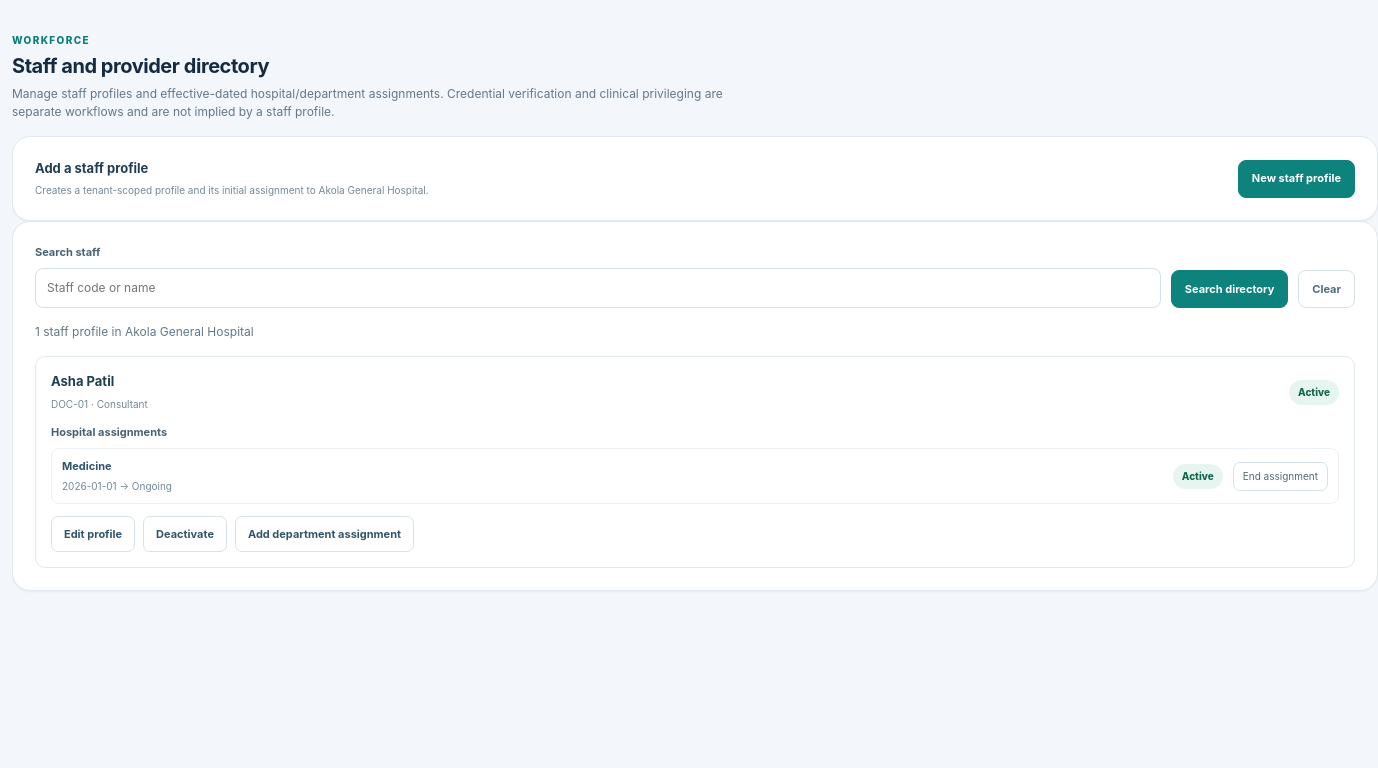
Test: staff management workspace › adds a department assignment with an effective date
Step 1. Click the button "Add department assignment" → (324, 534), box x1=235 y1=516 x2=414 y2=552
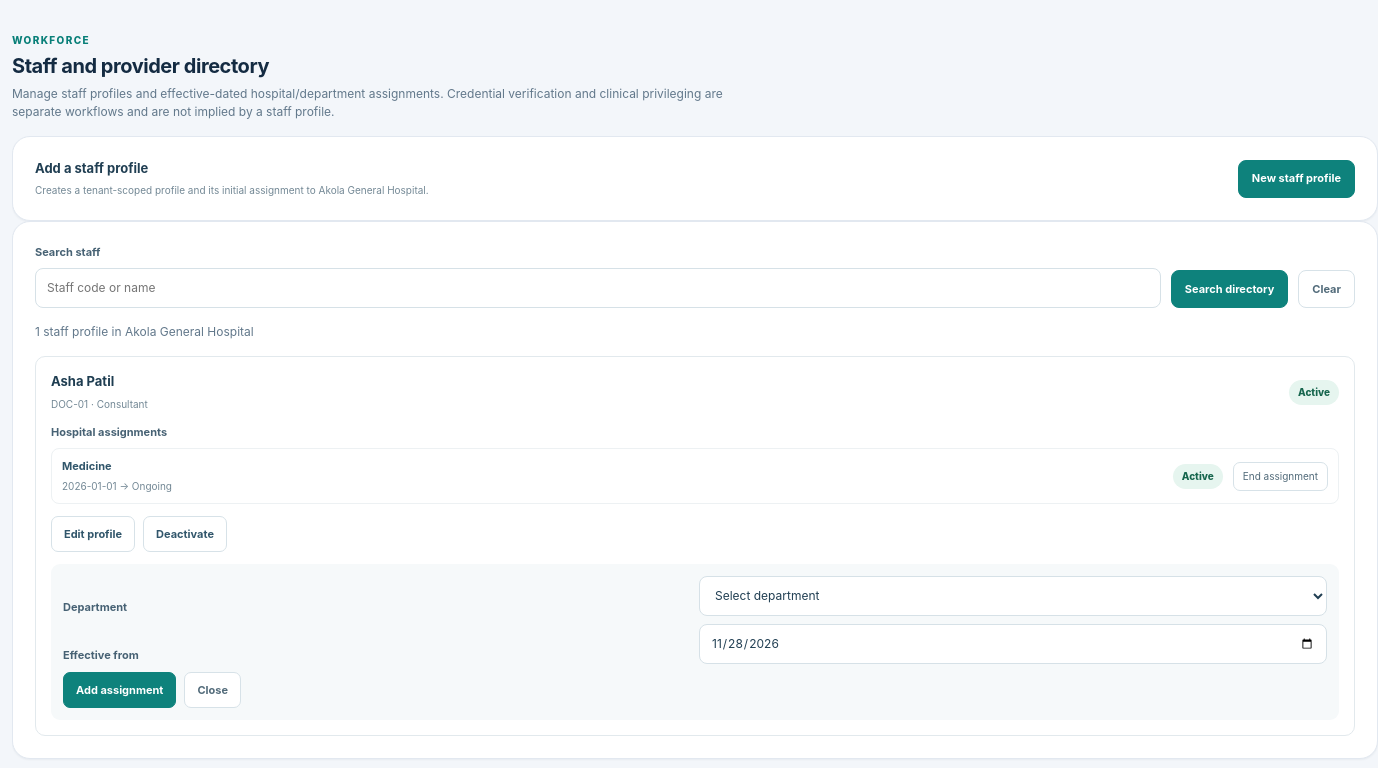
Step 2. Select "Medicine" in the dropdown labelled "Department" → (1013, 596), box x1=699 y1=576 x2=1327 y2=616
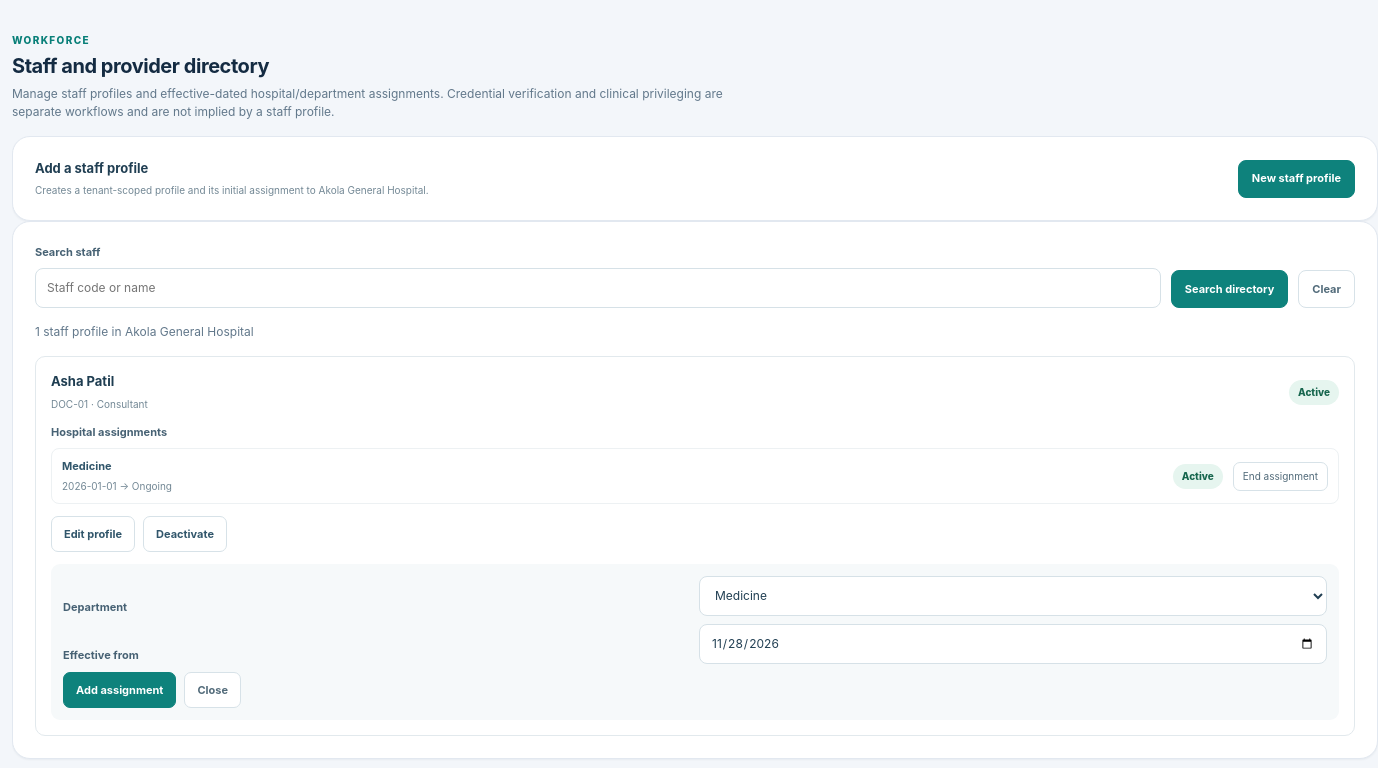
Step 3. Type "2026-04-01" into the date field labelled "Effective from" → (1013, 644), box x1=699 y1=624 x2=1327 y2=664
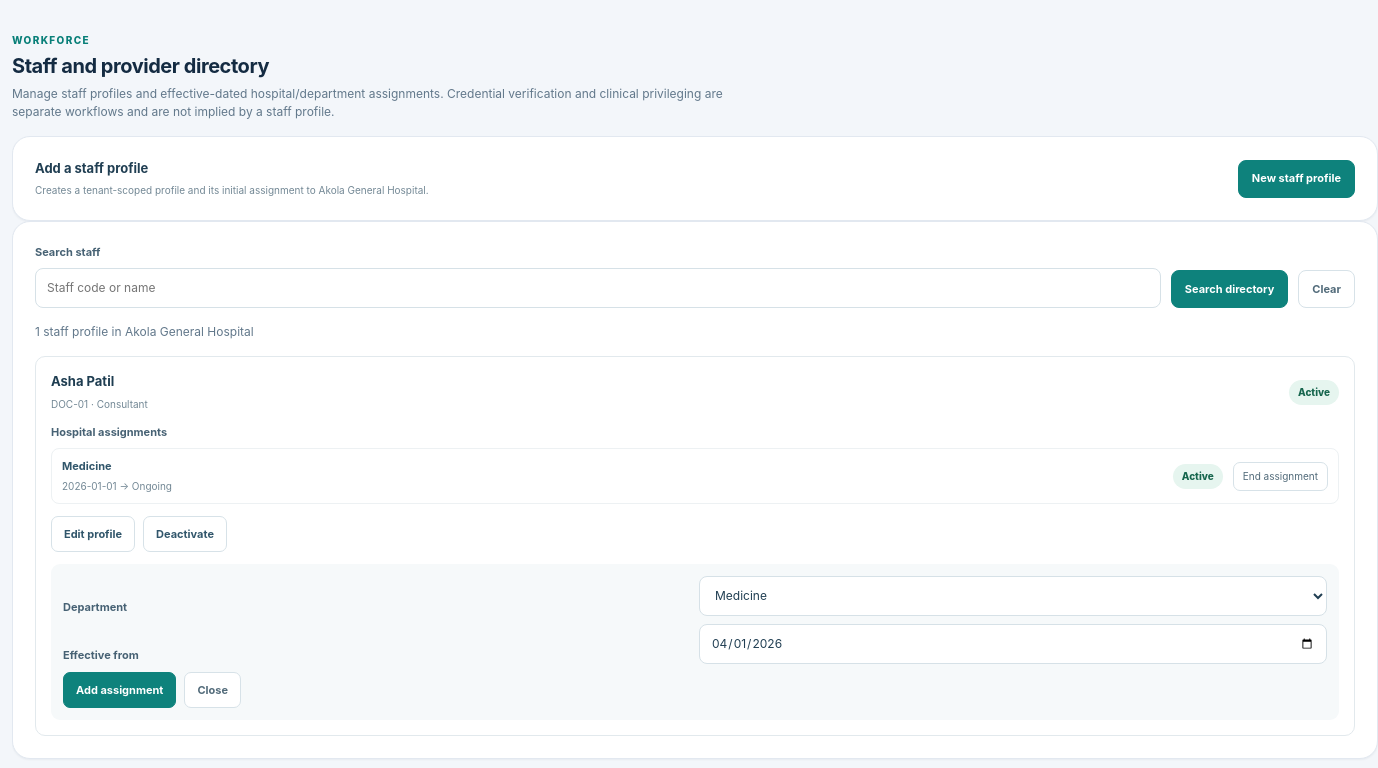
Step 4. Click the button "Add assignment" → (120, 690), box x1=63 y1=672 x2=176 y2=708
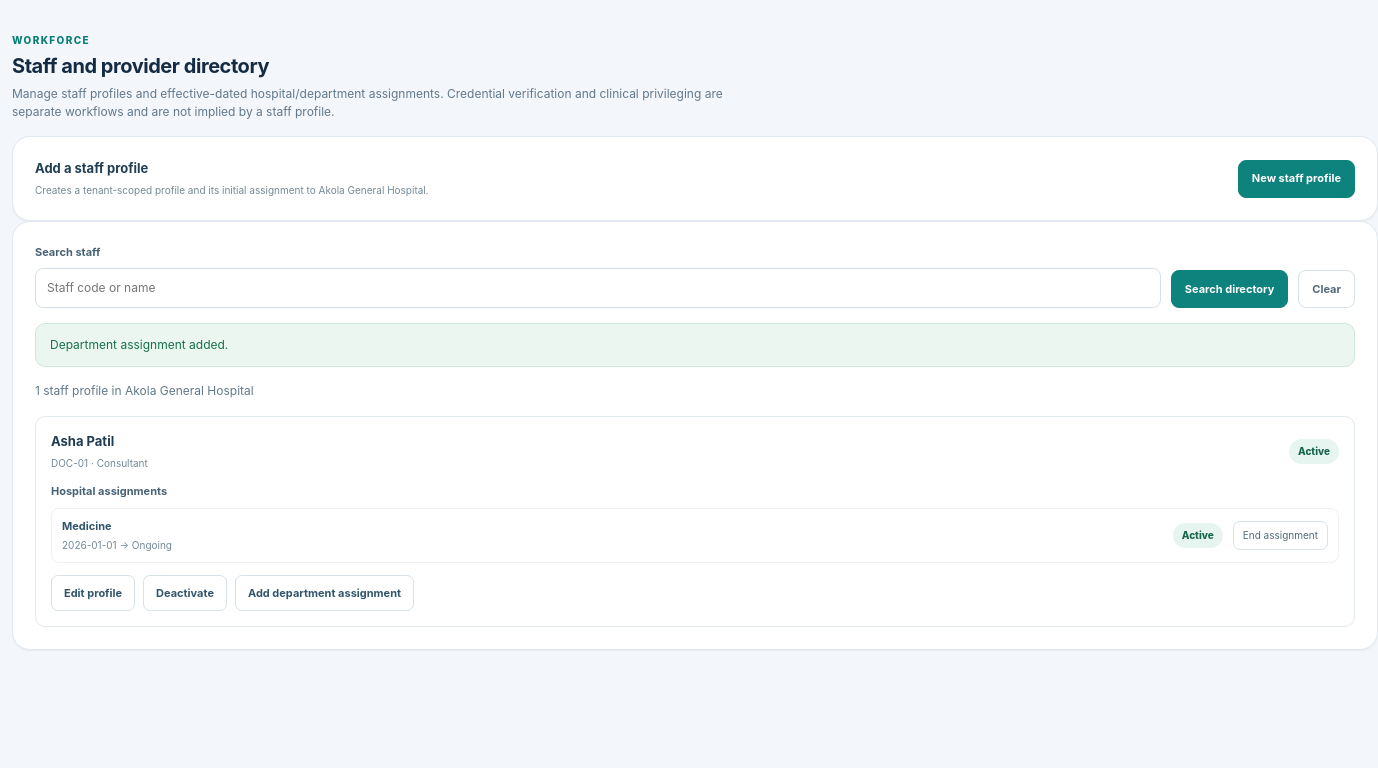
Now the text "Department assignment added." is shown, box x1=35 y1=323 x2=1355 y2=367
